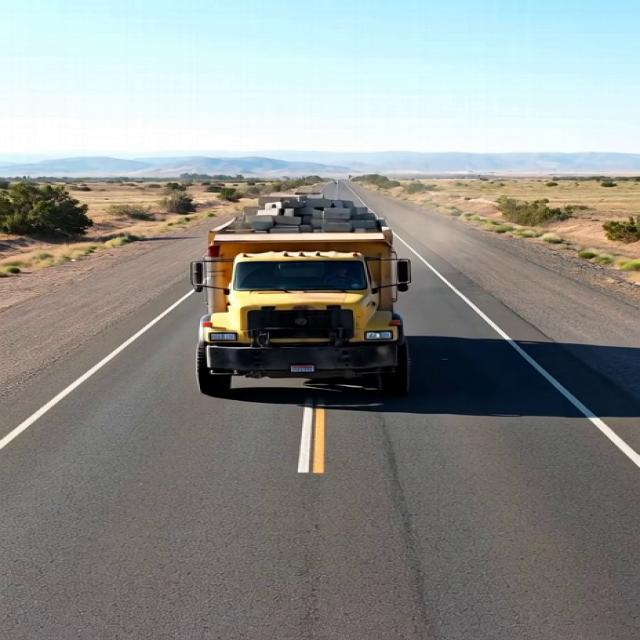Box: (198, 192, 410, 247)
Truck: (185, 178, 422, 409)
